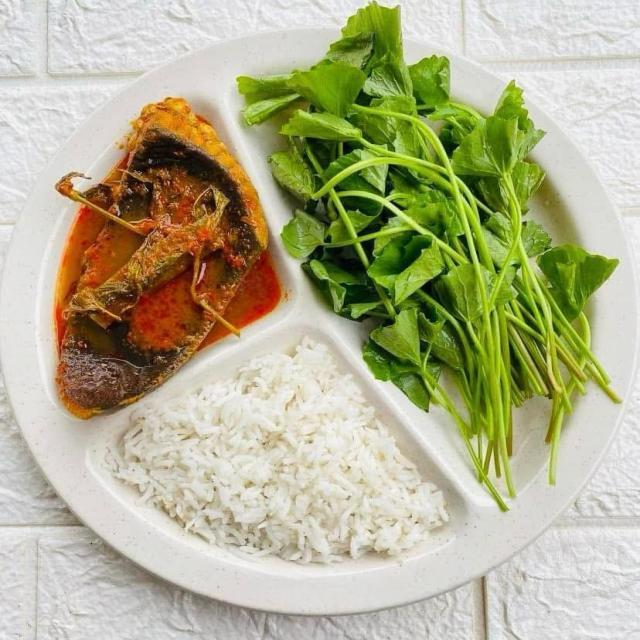Fish: (60, 99, 264, 411)
Plate: (0, 29, 620, 612)
Rice: (111, 341, 451, 563)
Vegetables: (236, 3, 628, 511)
